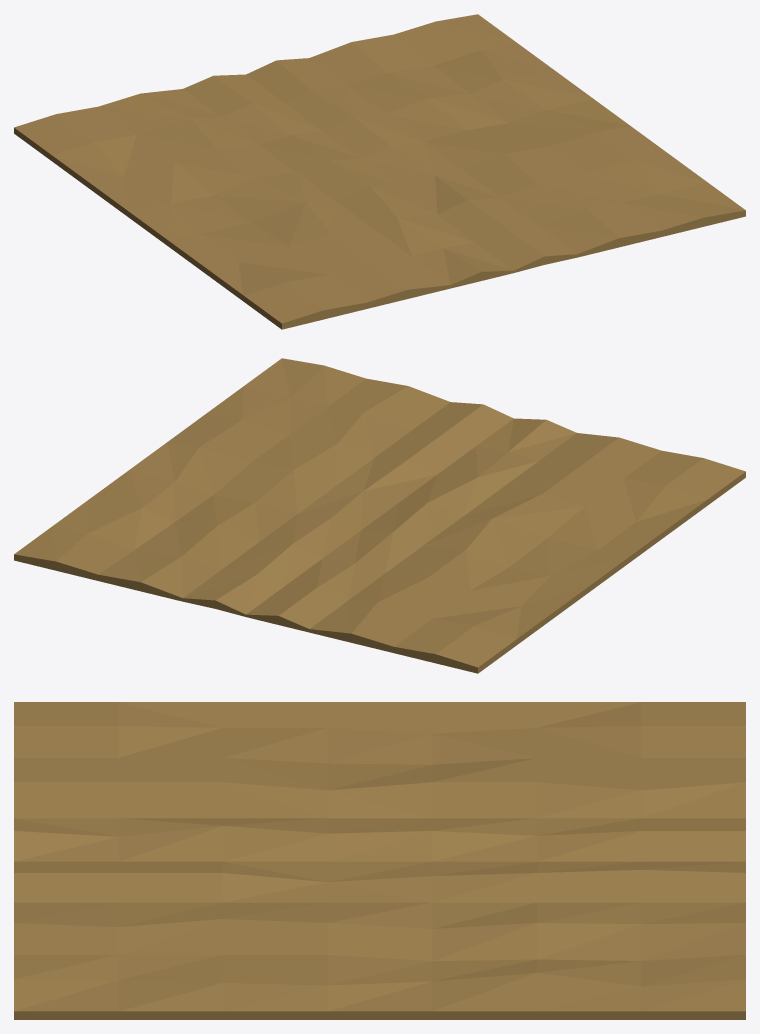
The picture shows the model from 3 angles, top to bottom: view 1: azimuth 30°, elevation 25°; view 2: azimuth 150°, elevation 25°; view 3: azimuth 270°, elevation 25°; orthographic projection. The views are drawn at different scales.
Visible parts, largest first — view 1: Soil; view 2: Soil; view 3: Soil.
Boxes of the visible parts, left/top/right/bottom form: Soil: left=14, top=14, right=745, bottom=329; Soil: left=14, top=358, right=745, bottom=673; Soil: left=14, top=702, right=745, bottom=1019.
Bounding box in the file's own units: 6.08 × 0.1154 × 6.08.
